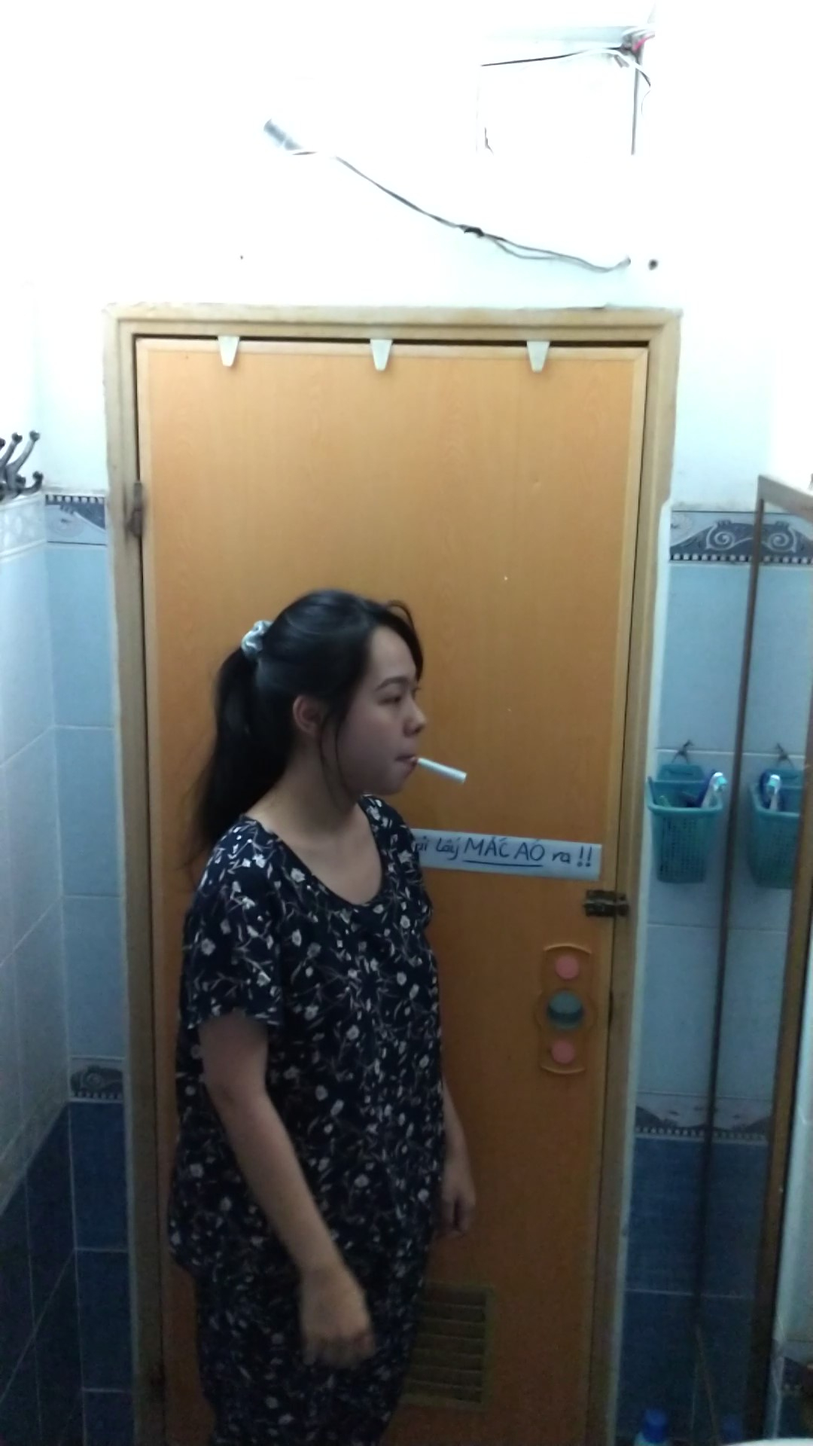cigarette: (410, 755, 473, 788)
person: (162, 585, 472, 1446)
